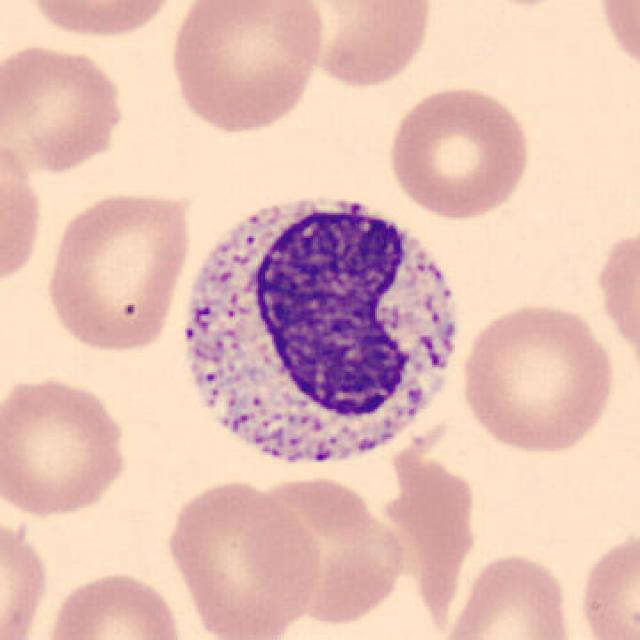Monocyte: (167, 174, 471, 488)
RBC: (160, 476, 324, 638), (41, 187, 195, 358), (455, 298, 619, 458), (251, 477, 406, 624), (165, 0, 327, 138), (382, 81, 535, 222), (0, 370, 133, 521), (0, 39, 132, 176), (277, 0, 439, 90), (434, 548, 580, 640), (39, 566, 189, 640), (0, 129, 48, 296), (572, 523, 639, 640), (592, 220, 638, 378), (17, 0, 186, 42), (0, 508, 53, 640), (594, 0, 640, 81)
